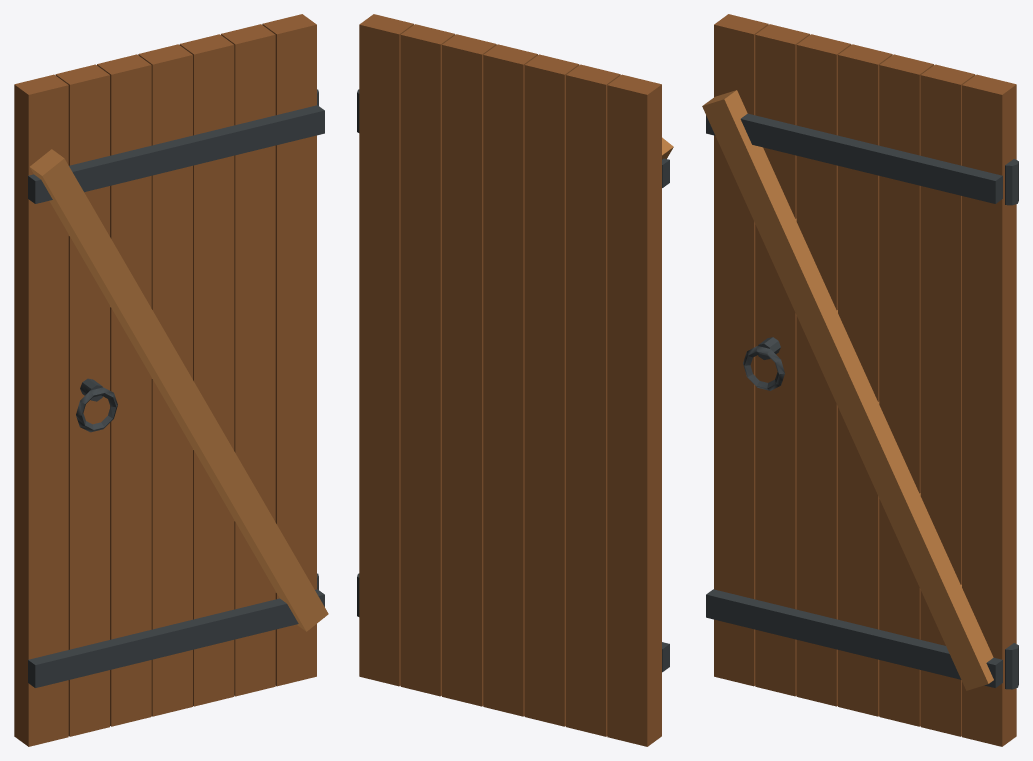
File: 854_hinged_plank_door_leaf.fbx
The picture shows the model from 3 angles, left to right: view 1: azimuth 30°, elevation 25°; view 2: azimuth 150°, elevation 25°; view 3: azimuth 330°, elevation 25°; orthographic projection.
Visible parts, largest first — view 1: 854_hinged_plank_door_leaf; view 2: 854_hinged_plank_door_leaf; view 3: 854_hinged_plank_door_leaf.
Boxes of the visible parts, x1,y1,x2,y2 form: 854_hinged_plank_door_leaf: (14,14,328,746); 854_hinged_plank_door_leaf: (357,14,673,746); 854_hinged_plank_door_leaf: (702,14,1018,746).
Size of the model in its own units: 0.945 by 1.98 by 0.15.
Materials: 1 (1 with a texture image).
